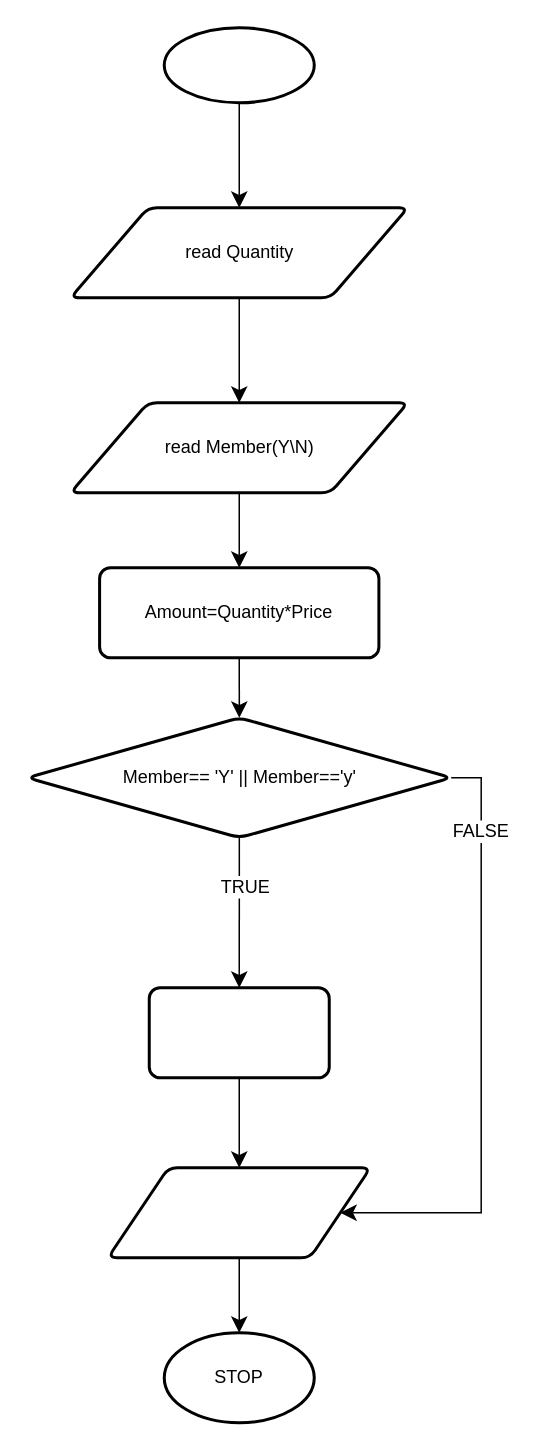
This 534x1449 diagram has some shape labels left out. Here are the shapes that lost their labels. From the top down, the centre of each, then its label:
At point (238, 65): "START".
At point (238, 1032): "Amount * 0.10".
At point (238, 1212): "Display Amount".
